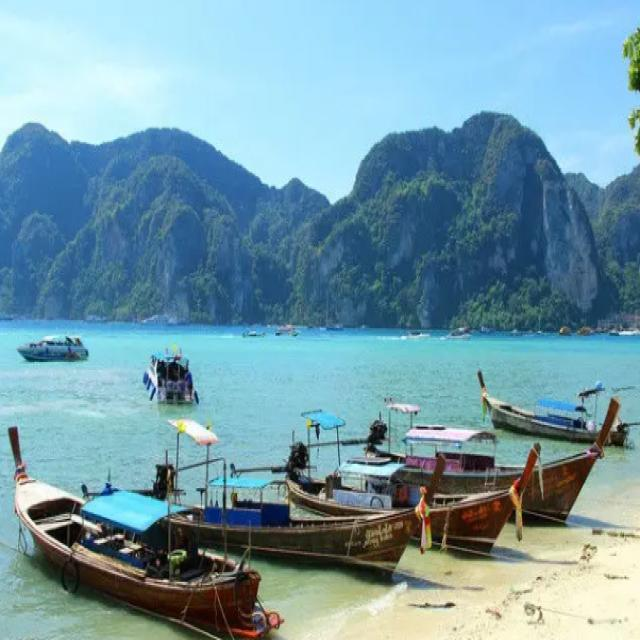fishing boat: (1, 422, 268, 640), (140, 397, 434, 575), (288, 399, 538, 566), (380, 394, 626, 527), (471, 373, 639, 452)
houseboat: (141, 348, 199, 405), (12, 328, 88, 367)
